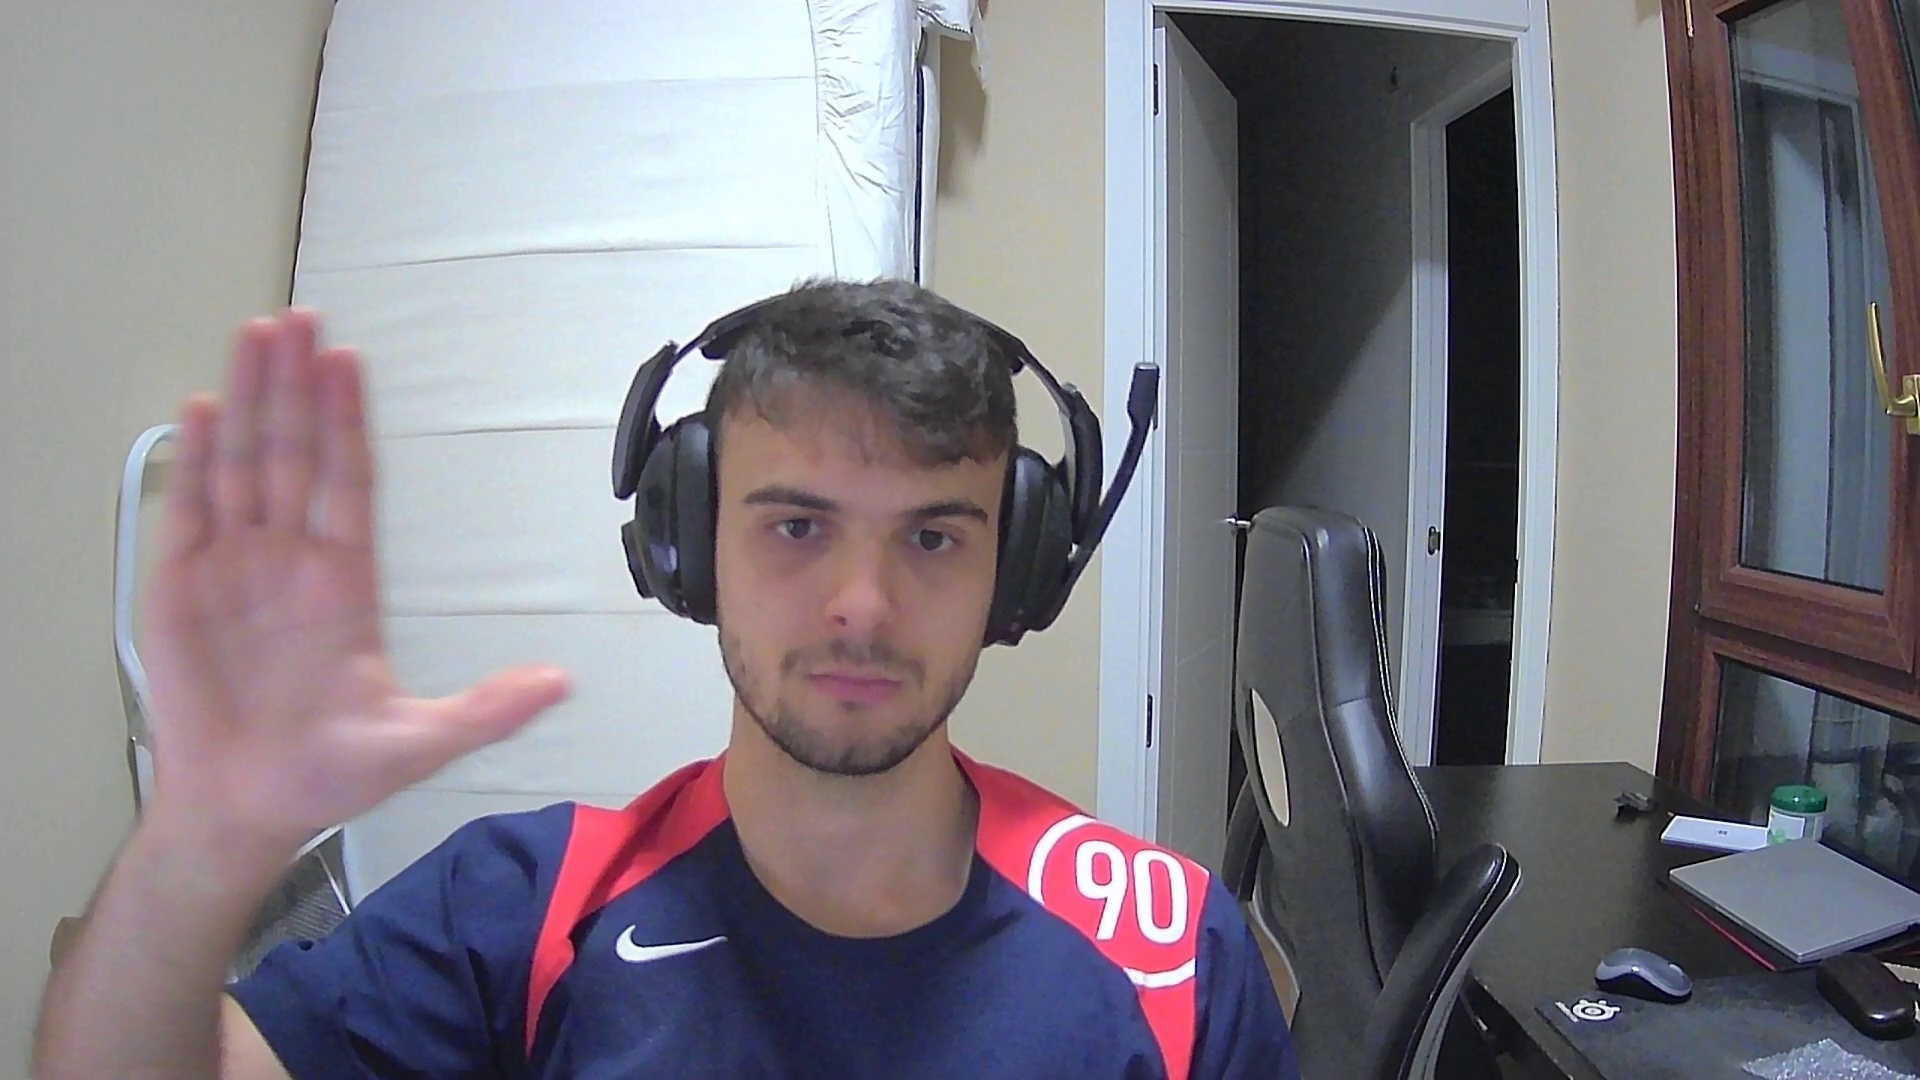Palm: (136, 305, 568, 825)
